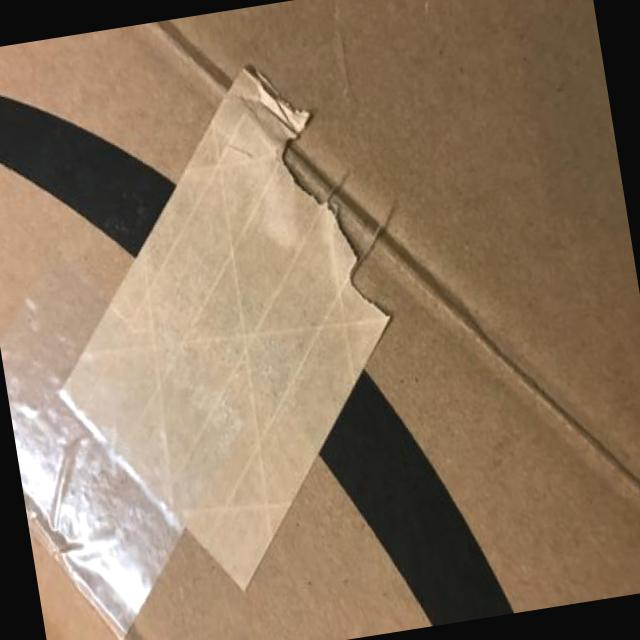cardboard: (0, 0, 639, 611)
paper: (63, 72, 387, 587)
